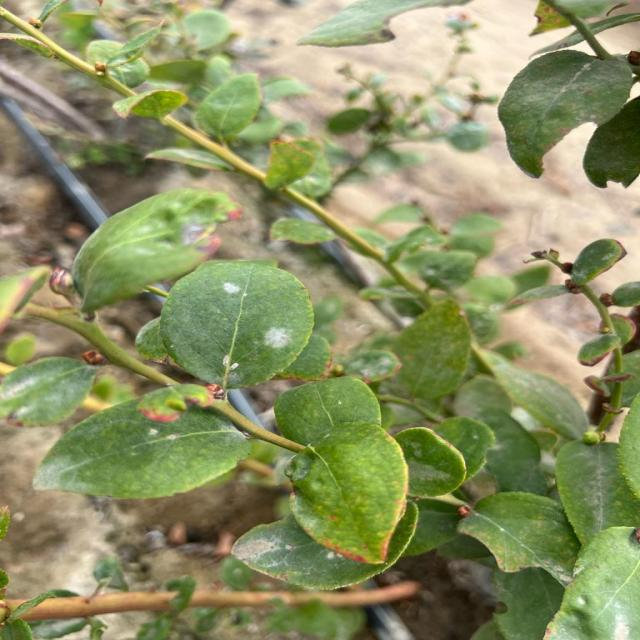Hojas con oidiosis: (28, 382, 254, 500), (154, 256, 318, 391), (228, 494, 420, 594), (283, 419, 412, 566), (370, 426, 469, 500)
